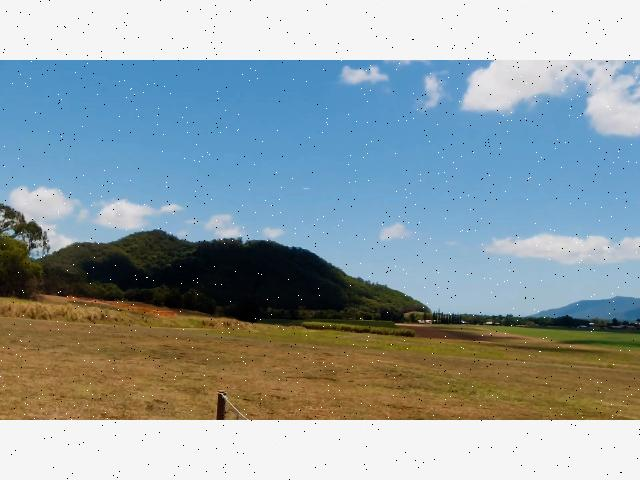Anti-Drone: (295, 179, 319, 196)
